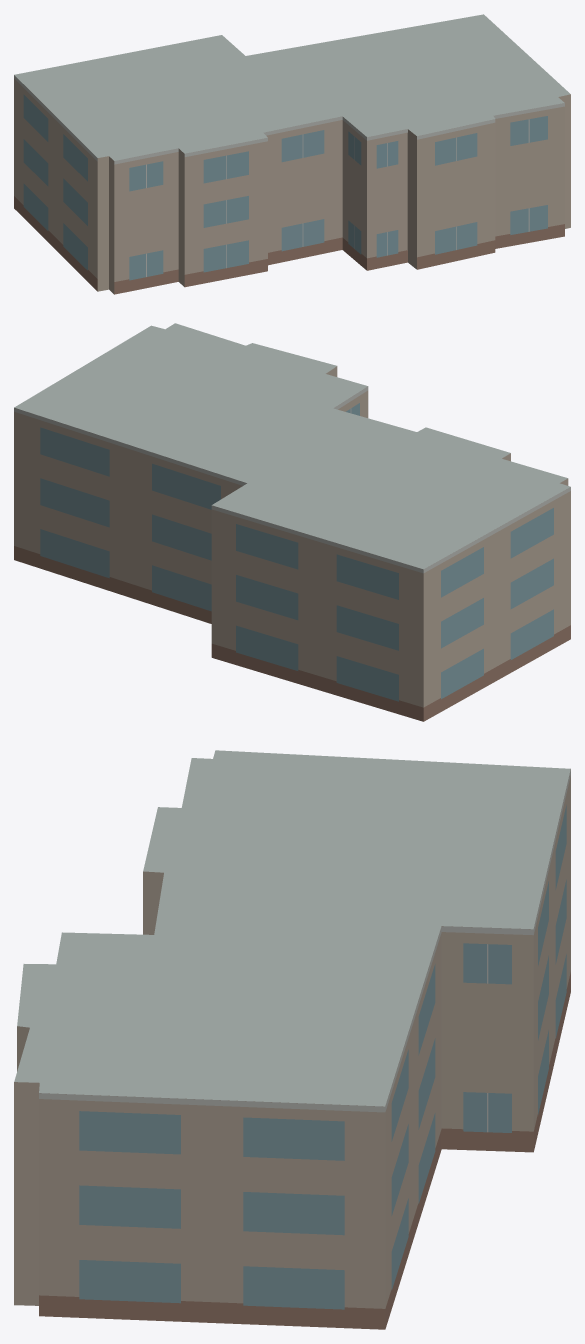
File: survey-upis-32833343.glb
3 renders of one model, top to bottom at view 1: azimuth 30°, elevation 25°; view 2: azimuth 150°, elevation 25°; view 3: azimuth 270°, elevation 25°, orthographic. The views are drawn at different scales.
Parts seen in each view (by area): view 1: survey-upis-32833343.tmp; view 2: survey-upis-32833343.tmp; view 3: survey-upis-32833343.tmp.
Part boxes in pixels (bbox=[...]): survey-upis-32833343.tmp: bbox=[14, 14, 570, 294]; survey-upis-32833343.tmp: bbox=[14, 323, 570, 721]; survey-upis-32833343.tmp: bbox=[14, 750, 570, 1329].
Bounding box in the file's own units: 31.34 × 9.15 × 20.7.
